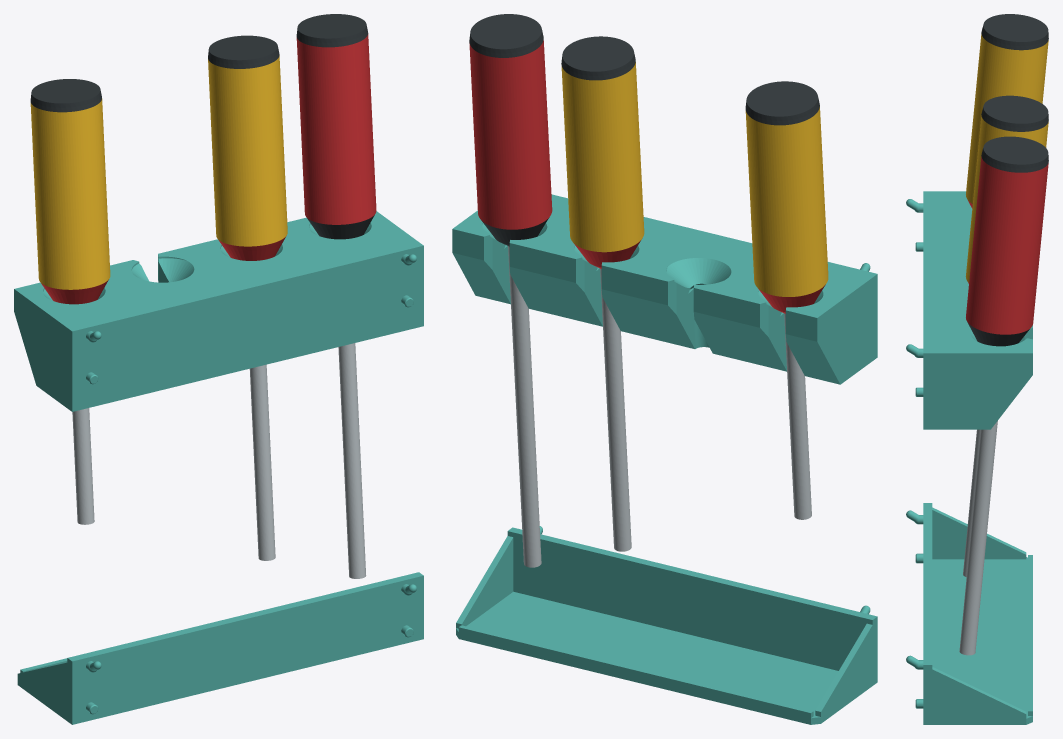
Rendered from part-sd04__v2__loaded-review.glb.
3 views of the same model, side by side, from view 1: azimuth 30°, elevation 25°; view 2: azimuth 150°, elevation 25°; view 3: azimuth 270°, elevation 25° (orthographic). The views are drawn at different scales.
Visible parts, largest first — view 1: Actual holder mesh, Actual holder mesh.001, Illustrative screwdriver envelope.002, Illustrative screwdriver envelope.006, Illustrative screwdriver envelope.010, Illustrative screwdriver envelope.008, Illustrative screwdriver envelope.004, Illustrative screwdriver envelope, Illustrative screwdriver envelope.007, Illustrative screwdriver envelope.011, Illustrative screwdriver envelope.003, Illustrative screwdriver envelope.001 (+2 smaller); view 2: Actual holder mesh.001, Actual holder mesh, Illustrative screwdriver envelope.010, Illustrative screwdriver envelope.006, Illustrative screwdriver envelope.002, Illustrative screwdriver envelope.008, Illustrative screwdriver envelope.004, Illustrative screwdriver envelope, Illustrative screwdriver envelope.007, Illustrative screwdriver envelope.003, Illustrative screwdriver envelope.011, Illustrative screwdriver envelope.001 (+2 smaller); view 3: Actual holder mesh.001, Actual holder mesh, Illustrative screwdriver envelope.010, Illustrative screwdriver envelope.002, Illustrative screwdriver envelope.008, Illustrative screwdriver envelope.011, Illustrative screwdriver envelope.007, Illustrative screwdriver envelope.003, Illustrative screwdriver envelope.006, Illustrative screwdriver envelope.004, Illustrative screwdriver envelope.009.
Part boxes in pixels (<box>): Actual holder mesh: <box>14,211,423,411</box>; Actual holder mesh.001: <box>17,572,423,724</box>; Illustrative screwdriver envelope.002: <box>30,98,110,289</box>; Illustrative screwdriver envelope.006: <box>208,55,287,246</box>; Illustrative screwdriver envelope.010: <box>296,34,376,224</box>; Illustrative screwdriver envelope.008: <box>338,343,366,578</box>; Illustrative screwdriver envelope.004: <box>249,364,275,560</box>; Illustrative screwdriver envelope: <box>72,408,94,524</box>; Illustrative screwdriver envelope.007: <box>208,35,279,68</box>; Illustrative screwdriver envelope.011: <box>296,14,368,47</box>; Illustrative screwdriver envelope.003: <box>30,79,101,112</box>; Illustrative screwdriver envelope.001: <box>41,279,108,304</box>; Actual holder mesh.001: <box>456,526,877,724</box>; Actual holder mesh: <box>452,194,877,384</box>; Illustrative screwdriver envelope.010: <box>469,40,552,229</box>; Illustrative screwdriver envelope.006: <box>561,62,644,252</box>; Illustrative screwdriver envelope.002: <box>745,107,828,296</box>; Illustrative screwdriver envelope.008: <box>508,246,541,567</box>; Illustrative screwdriver envelope.004: <box>600,268,631,551</box>; Illustrative screwdriver envelope: <box>784,313,811,519</box>; Illustrative screwdriver envelope.007: <box>561,36,635,80</box>; Illustrative screwdriver envelope.003: <box>745,81,819,125</box>; Illustrative screwdriver envelope.011: <box>469,14,543,57</box>; Illustrative screwdriver envelope.001: <box>758,284,825,313</box>; Actual holder mesh.001: <box>906,503,1032,724</box>; Actual holder mesh: <box>906,191,1032,429</box>; Illustrative screwdriver envelope.010: <box>966,156,1048,334</box>; Illustrative screwdriver envelope.002: <box>966,34,1048,203</box>; Illustrative screwdriver envelope.008: <box>959,421,997,655</box>; Illustrative screwdriver envelope.011: <box>981,136,1048,172</box>; Illustrative screwdriver envelope.007: <box>981,95,1048,131</box>; Illustrative screwdriver envelope.003: <box>981,14,1048,50</box>; Illustrative screwdriver envelope.006: <box>965,115,1048,282</box>; Illustrative screwdriver envelope.004: <box>963,429,980,577</box>; Illustrative screwdriver envelope.009: <box>967,322,1029,346</box>.
Bounding box in the file's own units: 0.2266 × 0.3634 × 0.0844.
